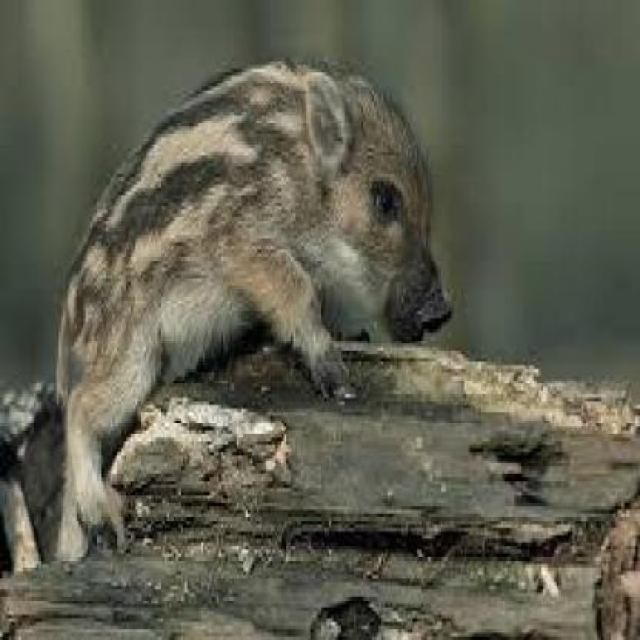wildboar: (43, 49, 451, 578)
